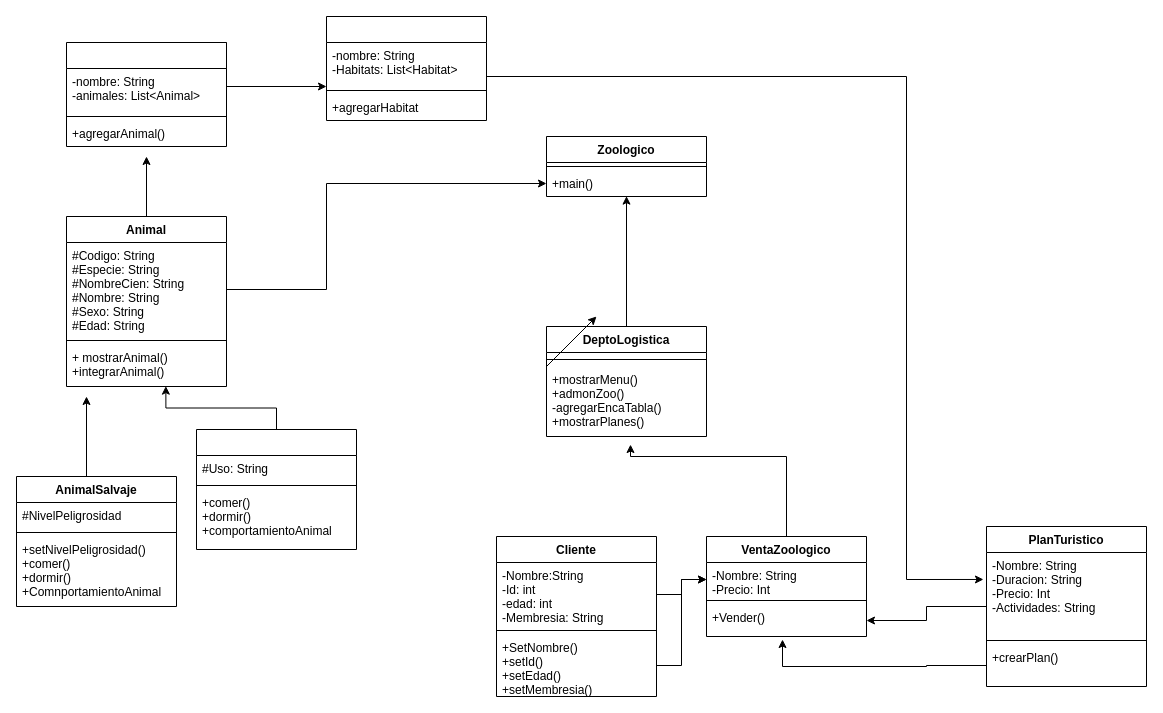
Some shapes in this 1163 by 713 pixel diagram are drawn without their labels. The shapes that lost their labels are listed below. From the top down, each one's box as (x1, y1, x2, y2) in pixels, then its label:
(326, 16, 486, 120): Tour
(66, 42, 226, 146): Habitat
(196, 428, 356, 550): AnimalDomestico
